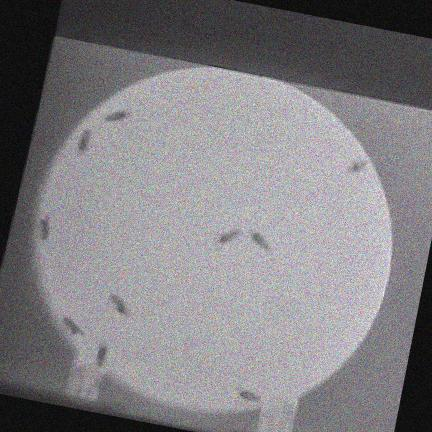fly: (109, 293, 128, 315), (61, 316, 83, 334), (250, 230, 269, 250), (218, 227, 241, 243), (76, 128, 90, 152), (105, 108, 130, 121), (96, 339, 107, 367), (38, 215, 49, 240), (238, 389, 260, 401), (347, 159, 366, 171)
